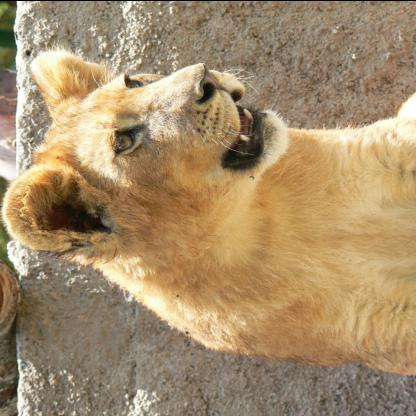lion: (14, 45, 286, 278)
